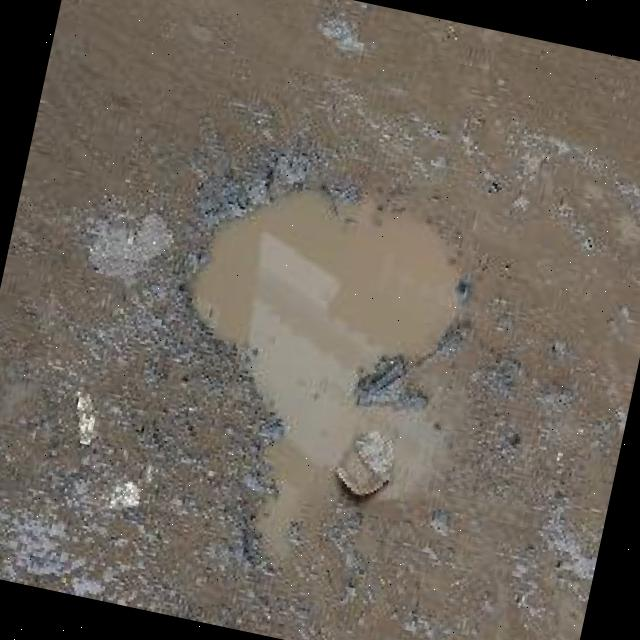waterlogging: (126, 126, 482, 483)
